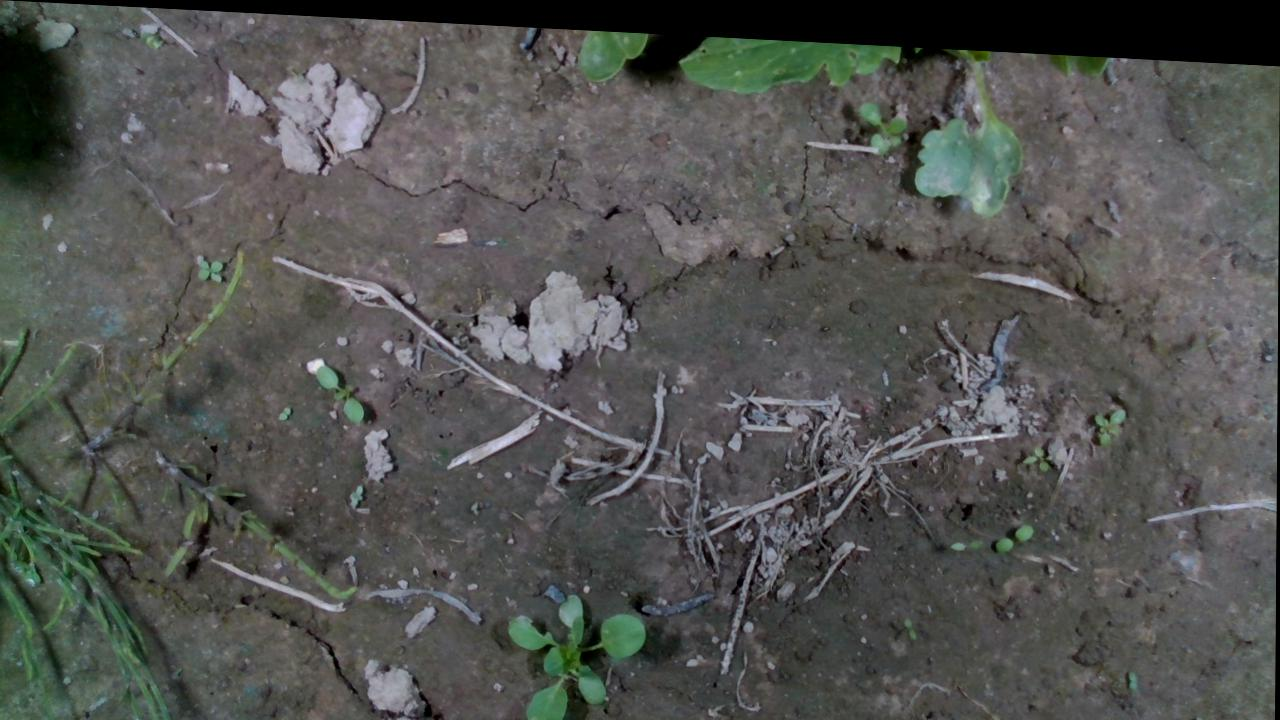weed: (312, 359, 366, 419), (856, 89, 910, 145), (991, 509, 1033, 543), (1092, 394, 1127, 434), (1020, 432, 1054, 460), (195, 253, 226, 280)
